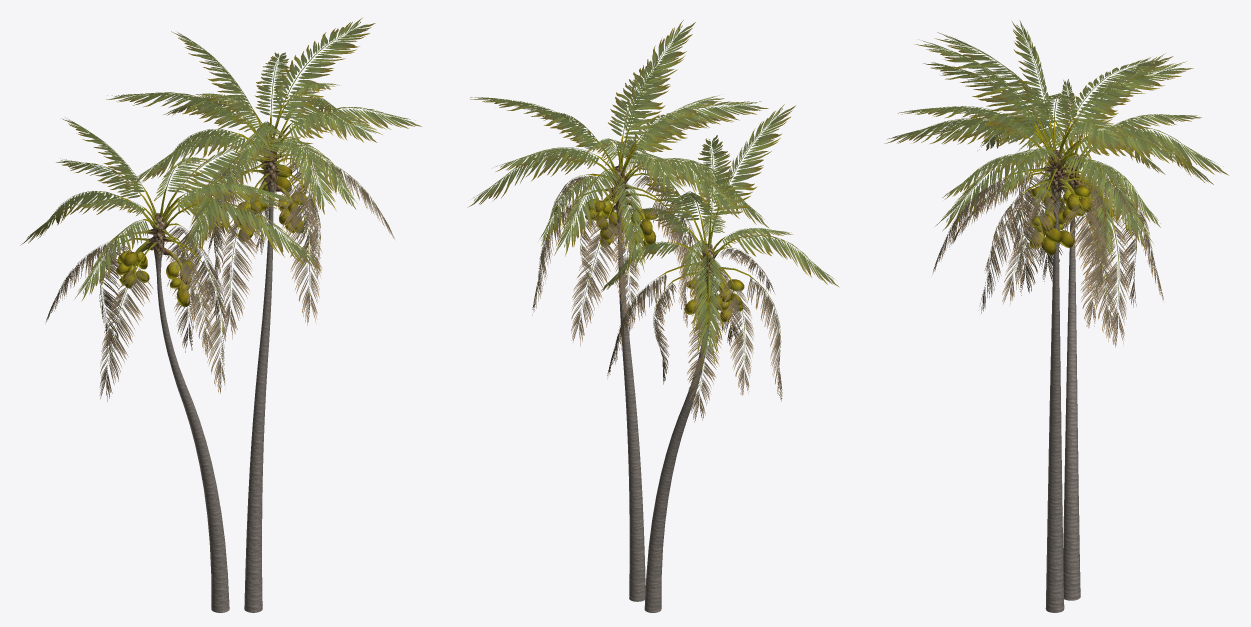
File: PalmTree.obj
3 renders of one model, left to right at view 1: azimuth 30°, elevation 25°; view 2: azimuth 150°, elevation 25°; view 3: azimuth 270°, elevation 25°, orthographic. The views are drawn at different scales.
Visible parts, largest first — view 1: coconut palm leaf 1, coconut palm leaf 2, palm02, coconut 2, frond stem, palm top; view 2: coconut palm leaf 1, coconut palm leaf 2, palm02, coconut 2, frond stem; view 3: coconut palm leaf 1, coconut palm leaf 2, palm02, coconut 2, frond stem, palm top.
Boxes of the visible parts, x1,y1,x2,y2 form: coconut palm leaf 1: (20,18,421,301); coconut palm leaf 2: (46,157,394,401); palm02: (155,191,274,612); coconut 2: (116,164,307,306); frond stem: (117,100,306,289); palm top: (153,142,277,260); coconut palm leaf 1: (467,20,839,363); coconut palm leaf 2: (532,174,782,422); palm02: (617,213,712,612); coconut 2: (584,198,744,329); frond stem: (574,125,755,310); coconut palm leaf 1: (884,20,1228,264); coconut palm leaf 2: (933,160,1163,347); palm02: (1045,202,1080,612); coconut 2: (1029,177,1113,255); frond stem: (1002,113,1111,236); palm top: (1050,150,1078,202).
Size of the model in its own units: 427 by 645 by 365.
Materials: 6 (6 with a texture image).
